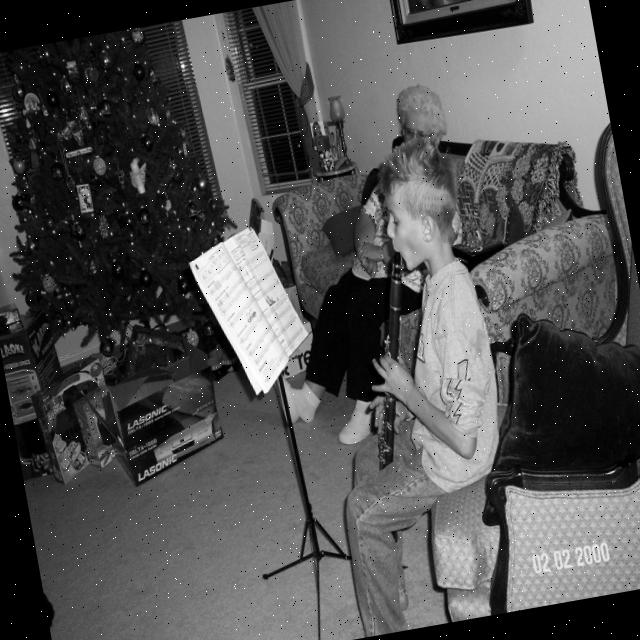clarinet: (342, 249, 441, 476)
